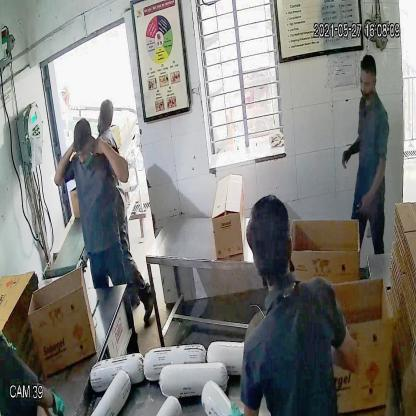no_goggles: (74, 143, 96, 164), (356, 73, 378, 91)
